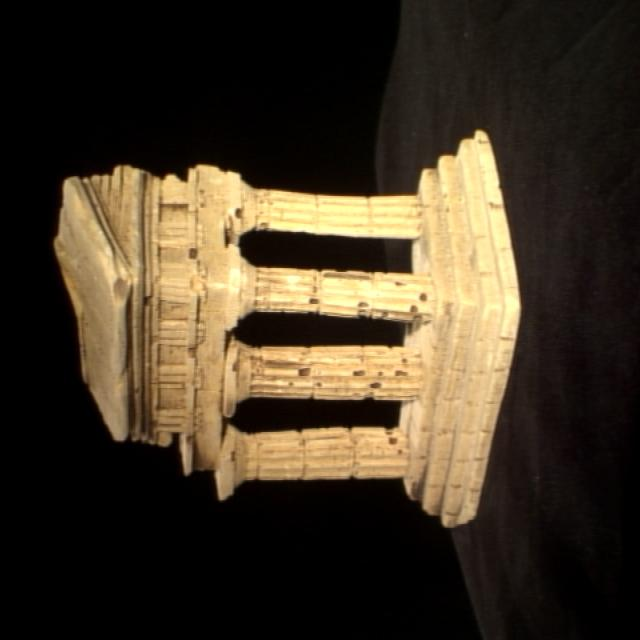Instance-Segmentation: (55, 131, 520, 524)
